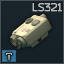Holosun LS321 Tactical device: (0, 0, 64, 64)
